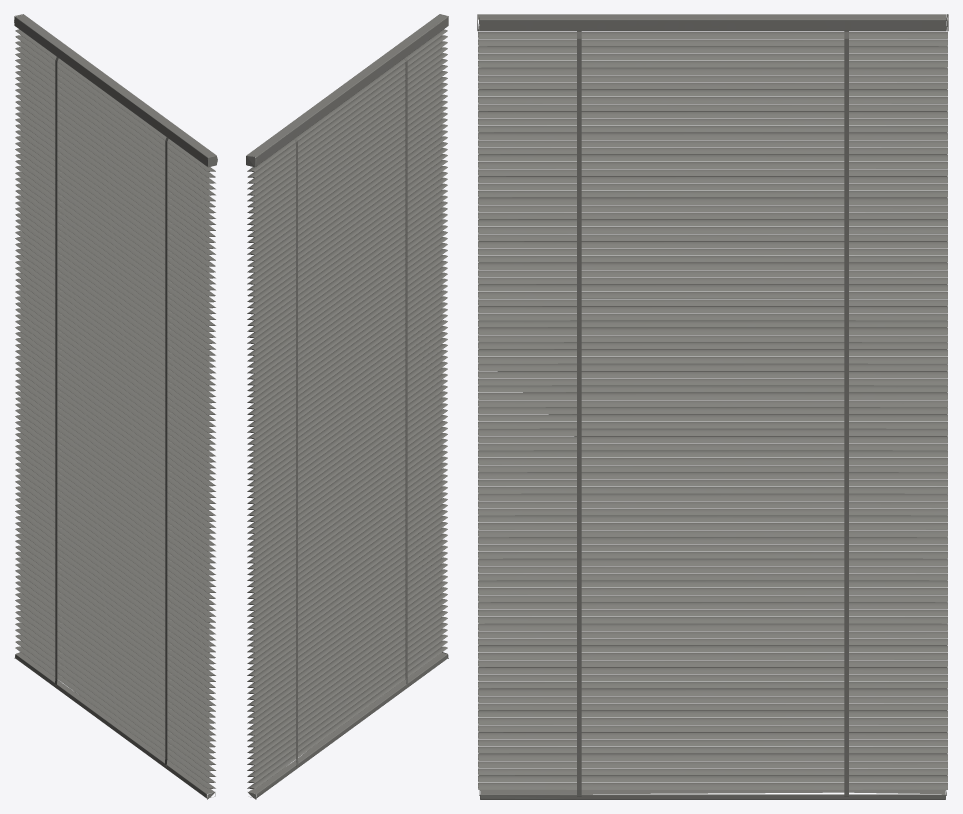
Rendered from blinds_window_2m_open_a02.glb.
3 views of the same model, side by side, from view 1: azimuth 30°, elevation 25°; view 2: azimuth 150°, elevation 25°; view 3: azimuth 270°, elevation 25° (orthographic). The views are drawn at different scales.
Visible parts, largest first — view 1: geometry_0; view 2: geometry_0; view 3: geometry_0.
Boxes of the visible parts, box(x1,y1,x2,y2) form: geometry_0: box(14, 14, 217, 799); geometry_0: box(246, 14, 448, 799); geometry_0: box(477, 14, 948, 799).
Size of the model in its own units: 0.00779 by 0.42 by 0.2294.
1 material, 1 textured.
